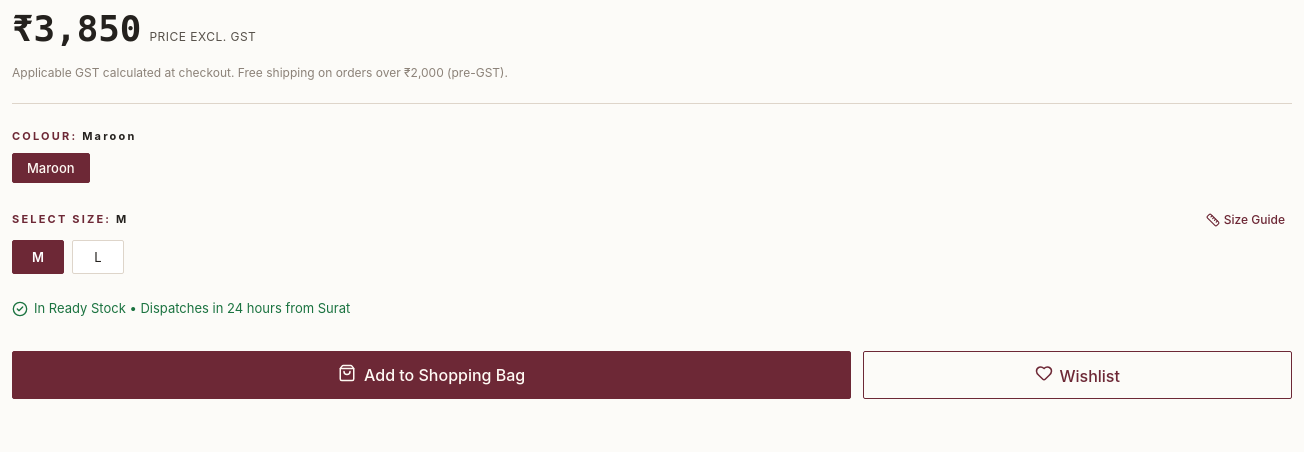
it: Component 12 — Public Storefront & Catalog Browsing › VariantSelector & Live Inventory Stock › detects sold out variant, displays Sold Out badge, and disables Add to Shopping Bag button
This screenshot has width=1304, height=452.
Select Size L which points to var-soldout
Click the button named "Size L" at coordinates (98, 257), box [72,240,124,274]
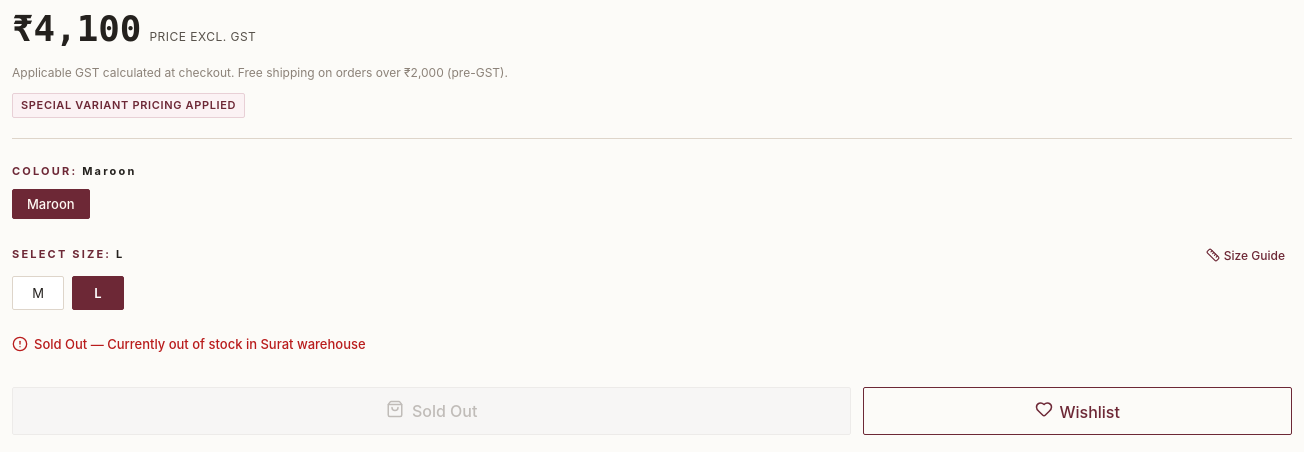
Now the text "Sold Out — Currently out of stock in Surat warehouse" is shown, box [34,334,366,354]
Now the button "Sold Out" is disabled, box [12,386,851,434]
